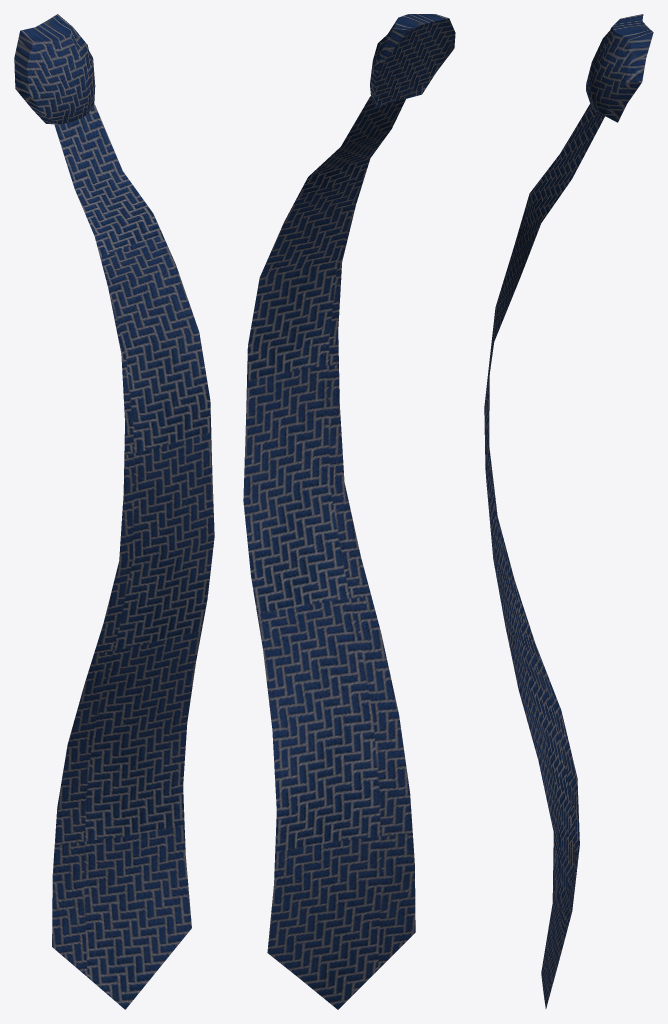
File: Pose-2_SuitTie-3.fbx
3 views of the same model, side by side, from view 1: azimuth 30°, elevation 25°; view 2: azimuth 210°, elevation 25°; view 3: azimuth 270°, elevation 25° (orthographic). The views are drawn at different scales.
Parts seen in each view (by area): view 1: Pose-2_SuitTie-3; view 2: Pose-2_SuitTie-3; view 3: Pose-2_SuitTie-3.
Part boxes in pixels (x1,y1,x2,y2): Pose-2_SuitTie-3: (14, 14, 214, 1009); Pose-2_SuitTie-3: (243, 14, 455, 1009); Pose-2_SuitTie-3: (484, 14, 653, 1008).
Size of the model in its own units: 7.69 by 50.37 by 7.96.
